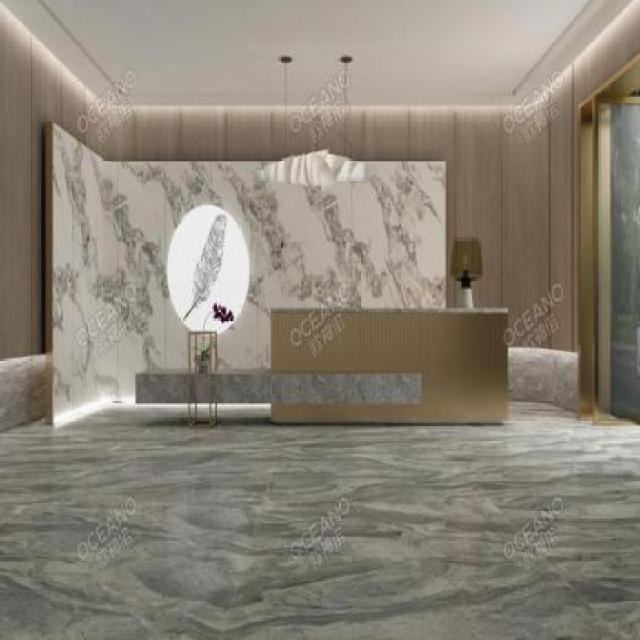frontdesk: (258, 291, 514, 433)
